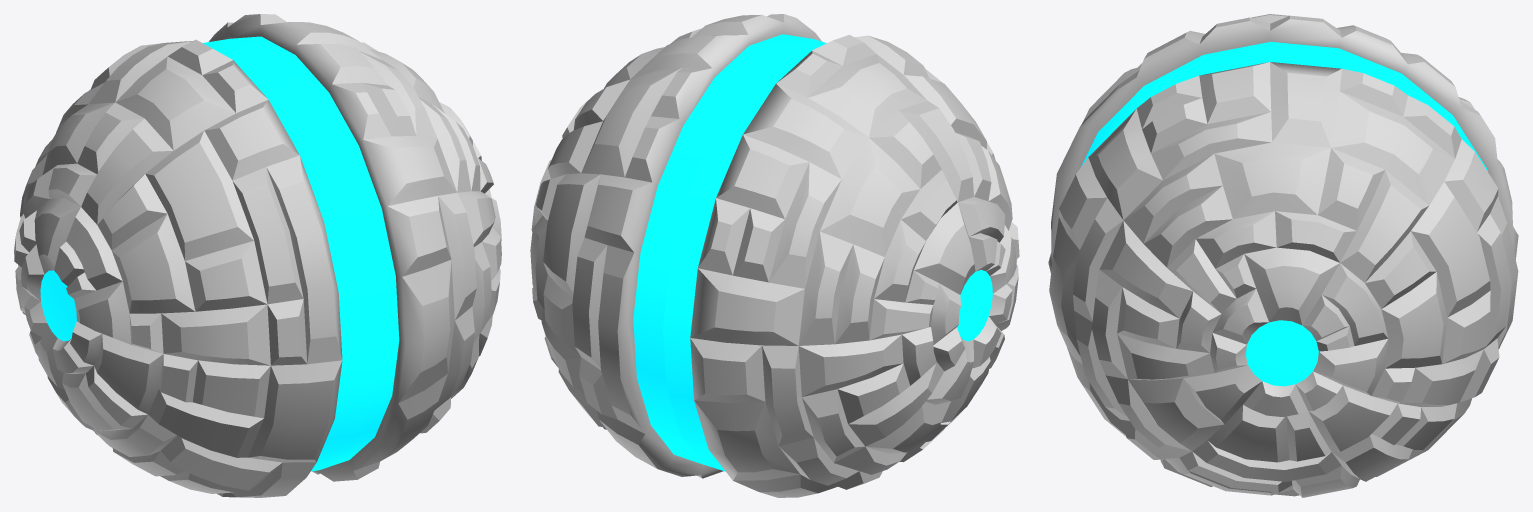
The model's file is grenade.fbx.
The picture shows the model from 3 angles, left to right: view 1: azimuth 30°, elevation 25°; view 2: azimuth 150°, elevation 25°; view 3: azimuth 270°, elevation 25°; orthographic projection.
Parts seen in each view (by area): view 1: pSphere6; view 2: pSphere6; view 3: pSphere6.
Boxes of the visible parts, <box> form: pSphere6: <box>14,14,501,497</box>; pSphere6: <box>530,14,1019,497</box>; pSphere6: <box>1048,14,1518,497</box>.
Bounding box in the file's own units: 17.6 × 17.46 × 17.16.
